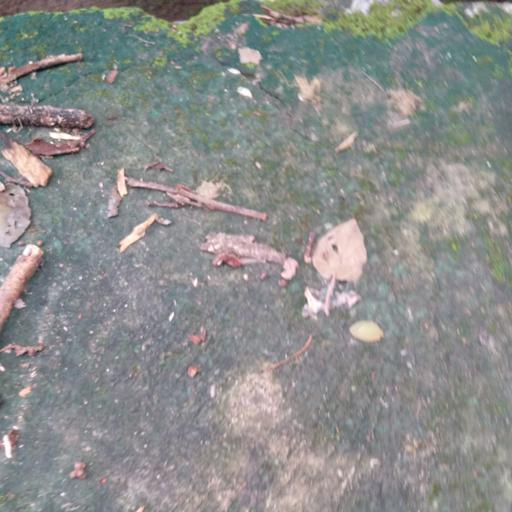algae: (0, 5, 512, 512)
